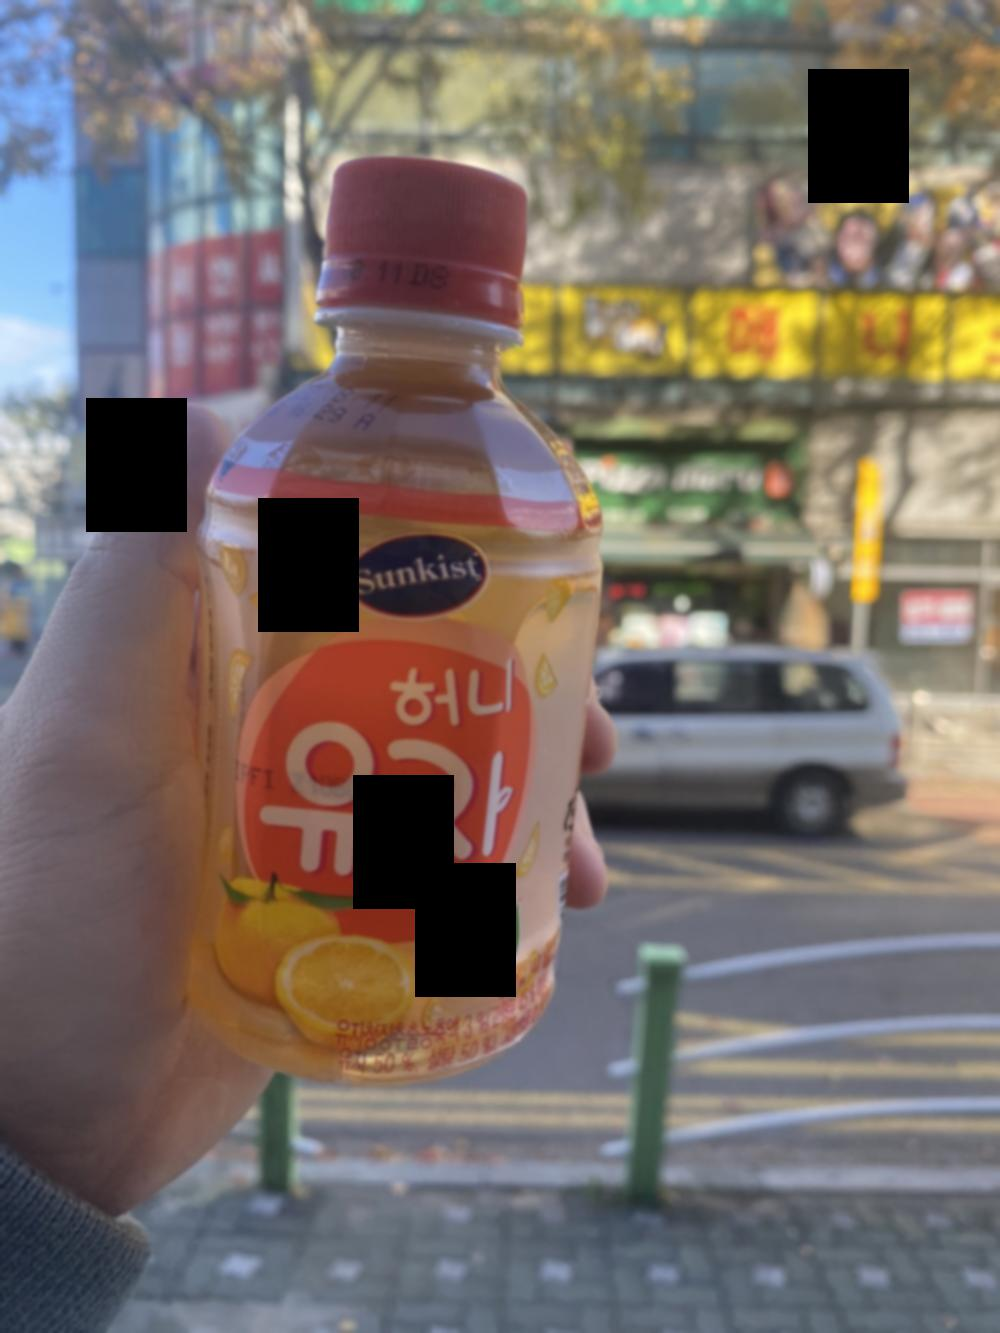honeyyuja: (189, 147, 611, 1110)
